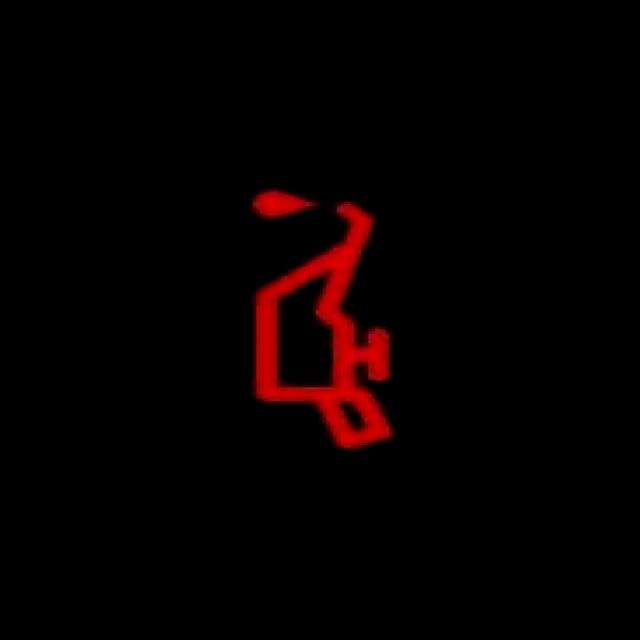kontrolka: (236, 187, 414, 460)
